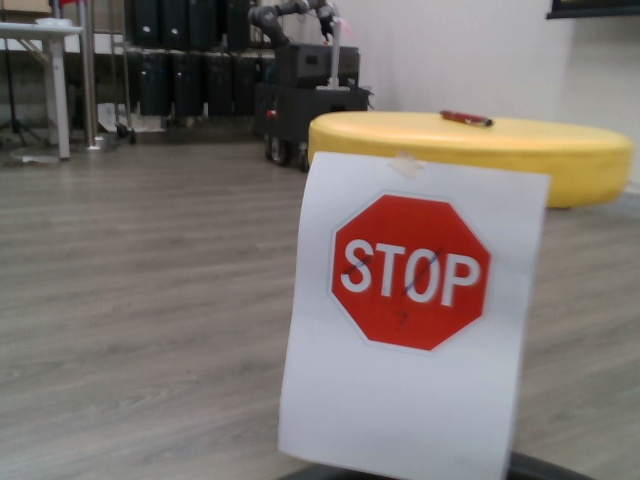stop: (324, 188, 495, 357)
